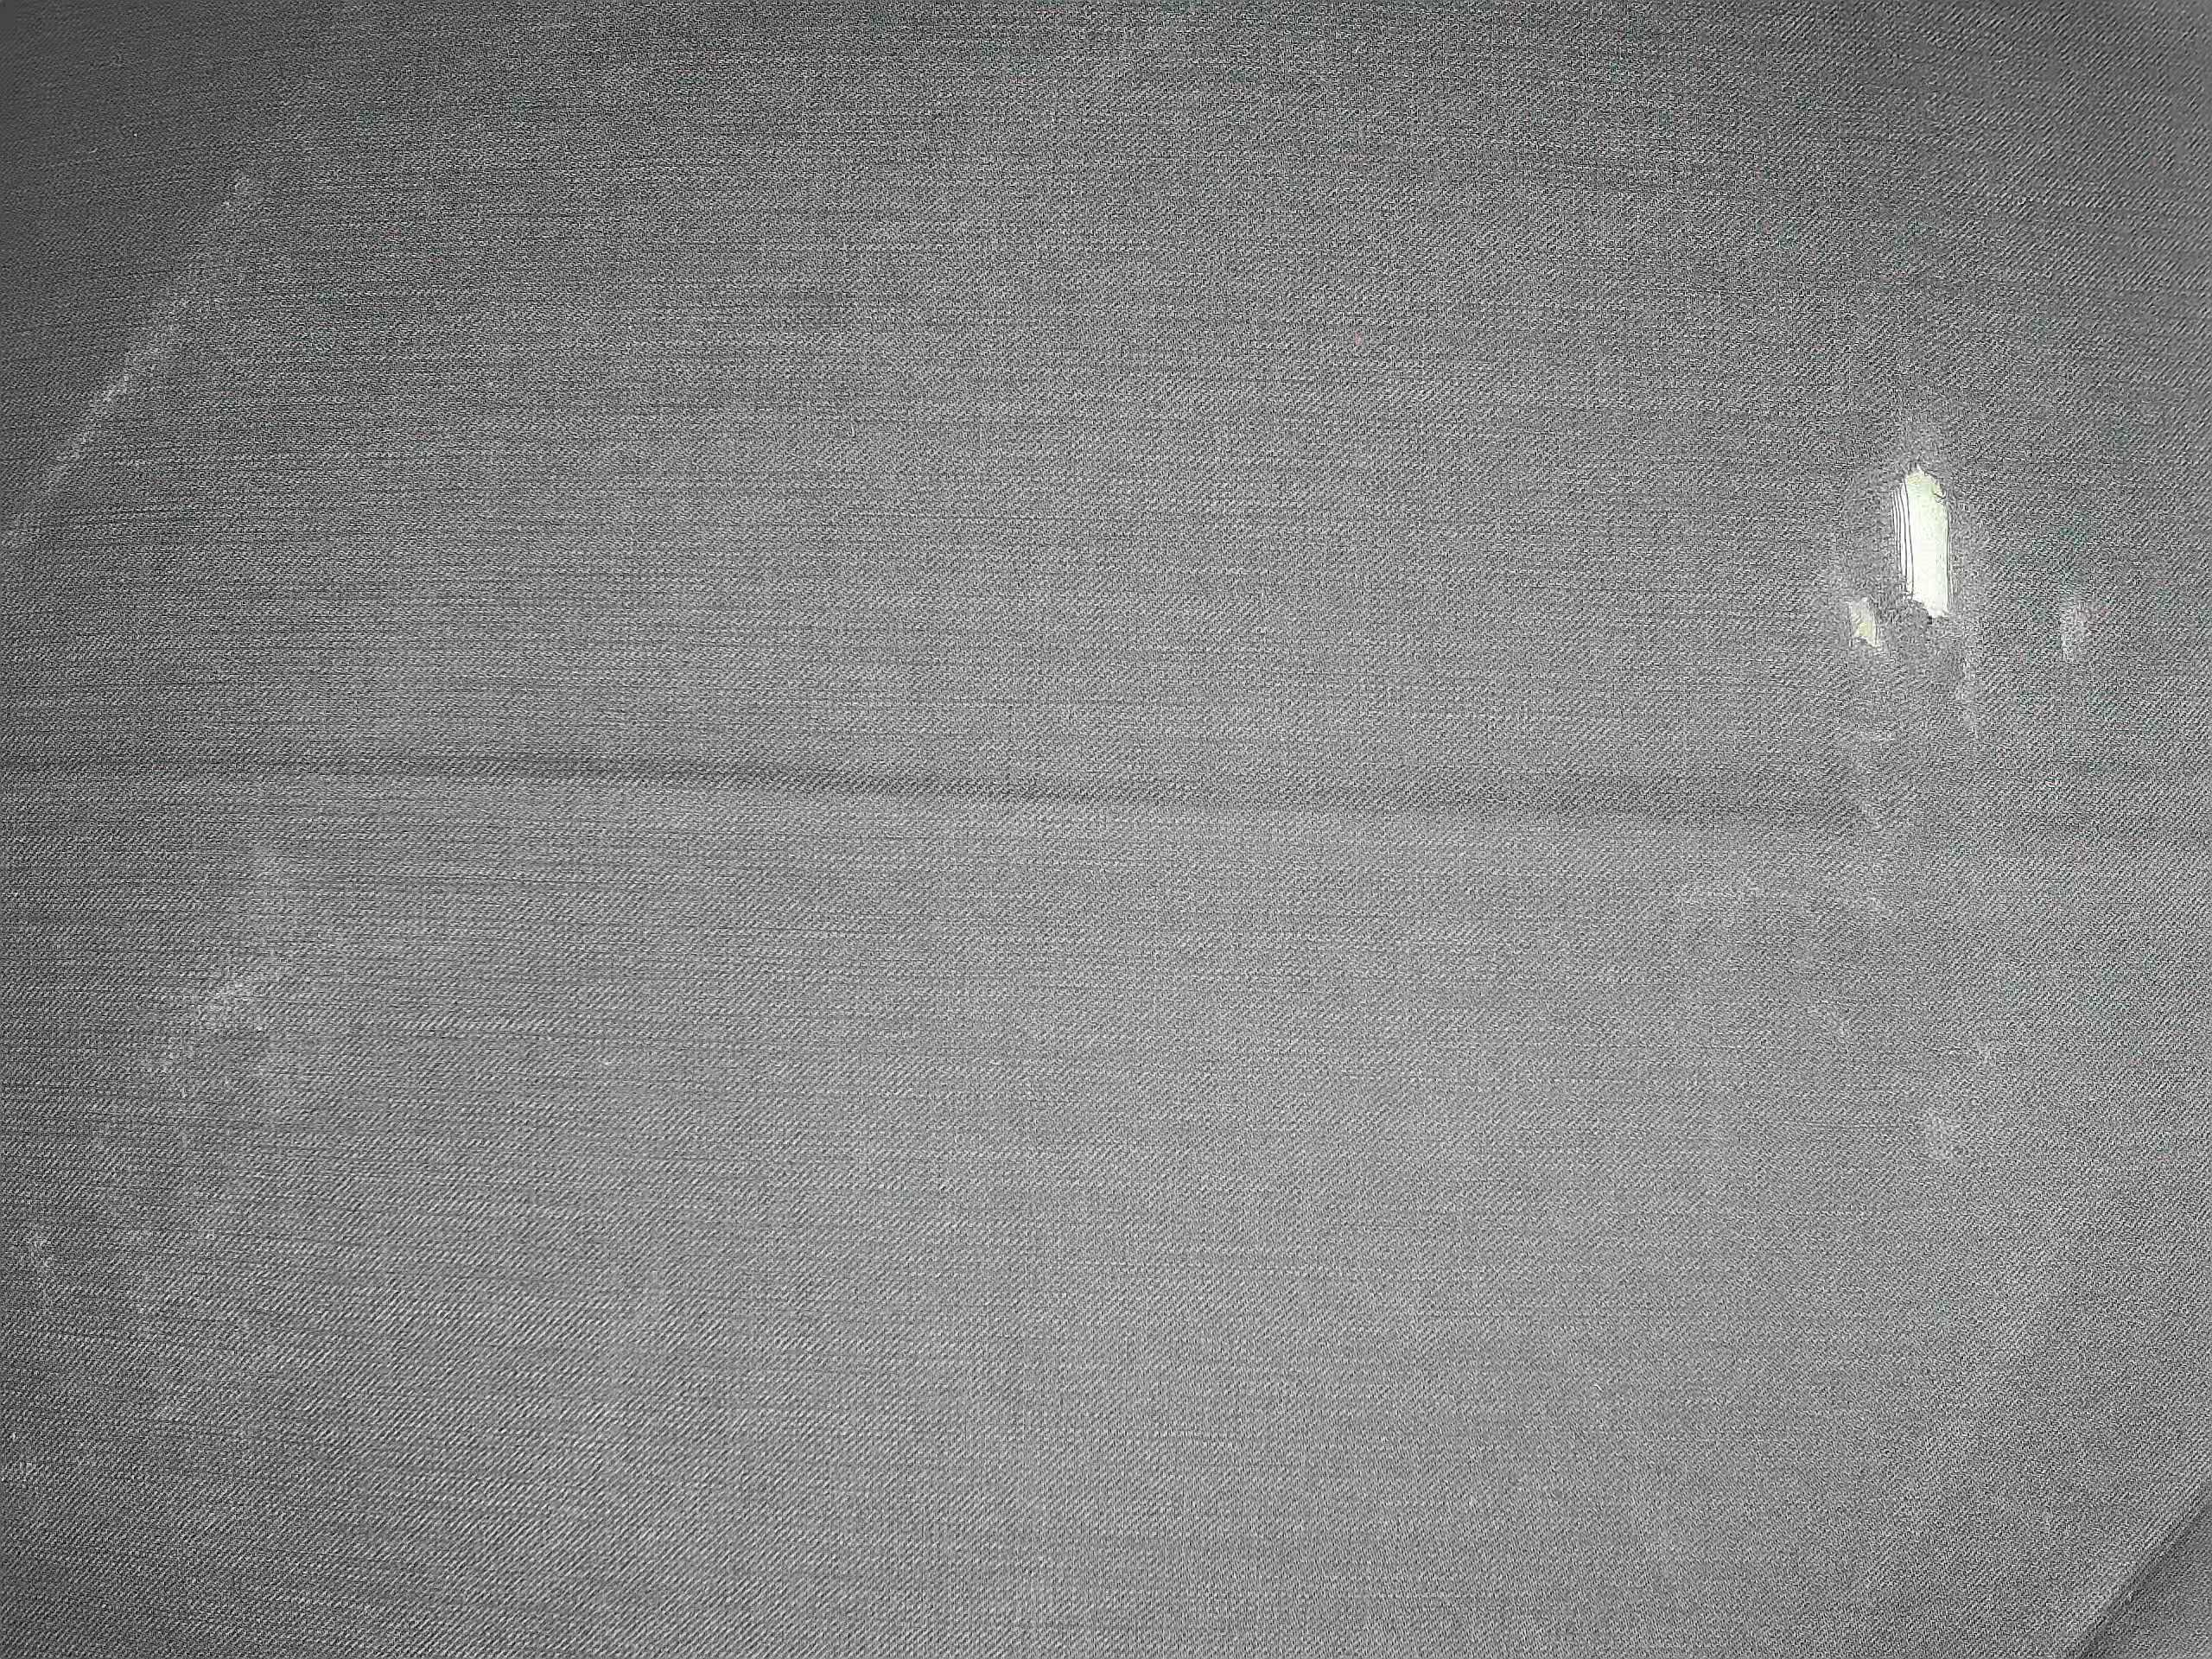rubbing-hole: (1829, 436, 1989, 680)
